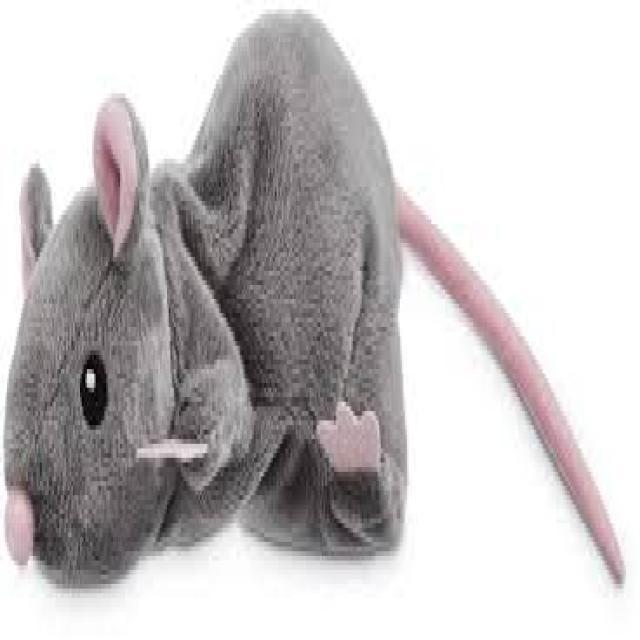Rat: (4, 3, 476, 586)
